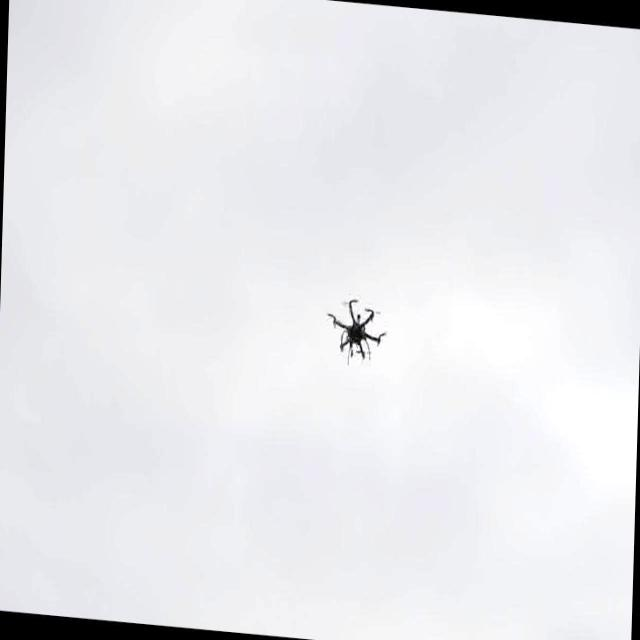drone: (326, 290, 388, 365)
